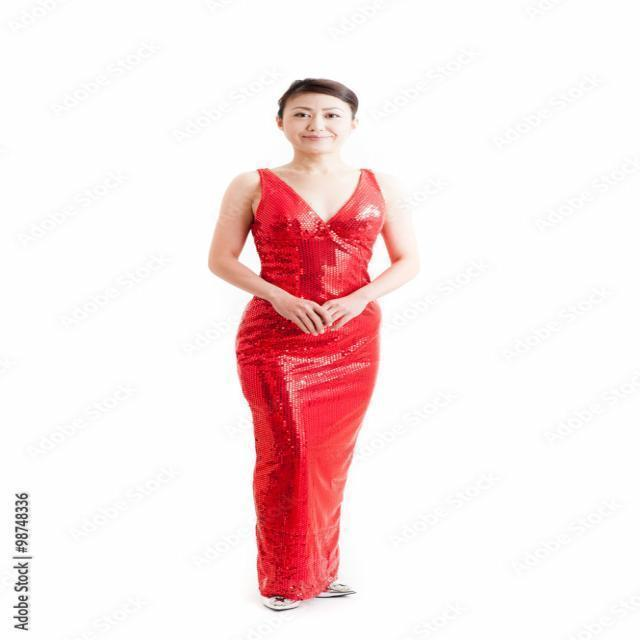direk: (198, 72, 422, 618)
